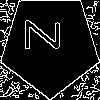Z: (25, 19, 68, 50)
